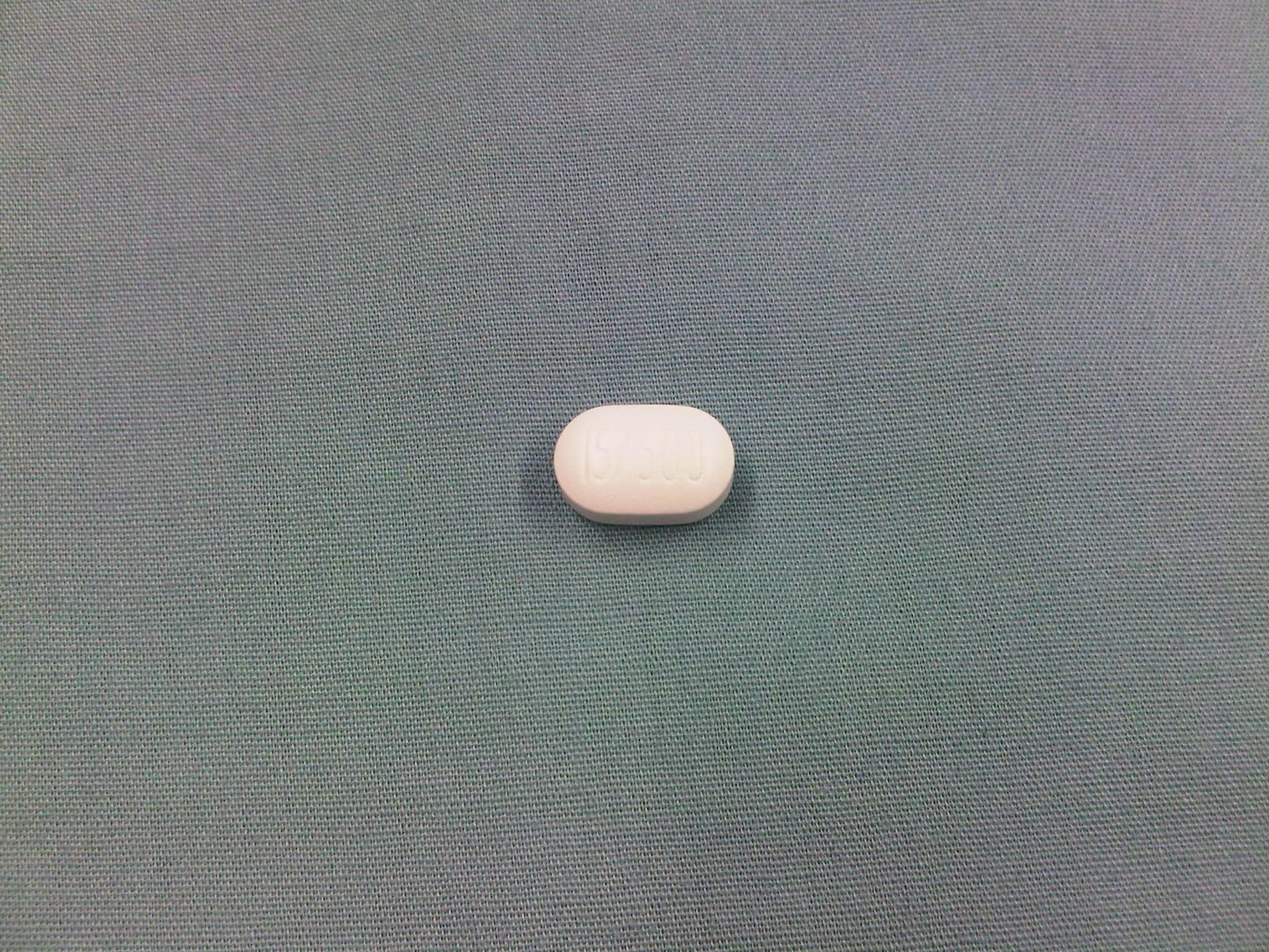Pill: (544, 394, 744, 535)
